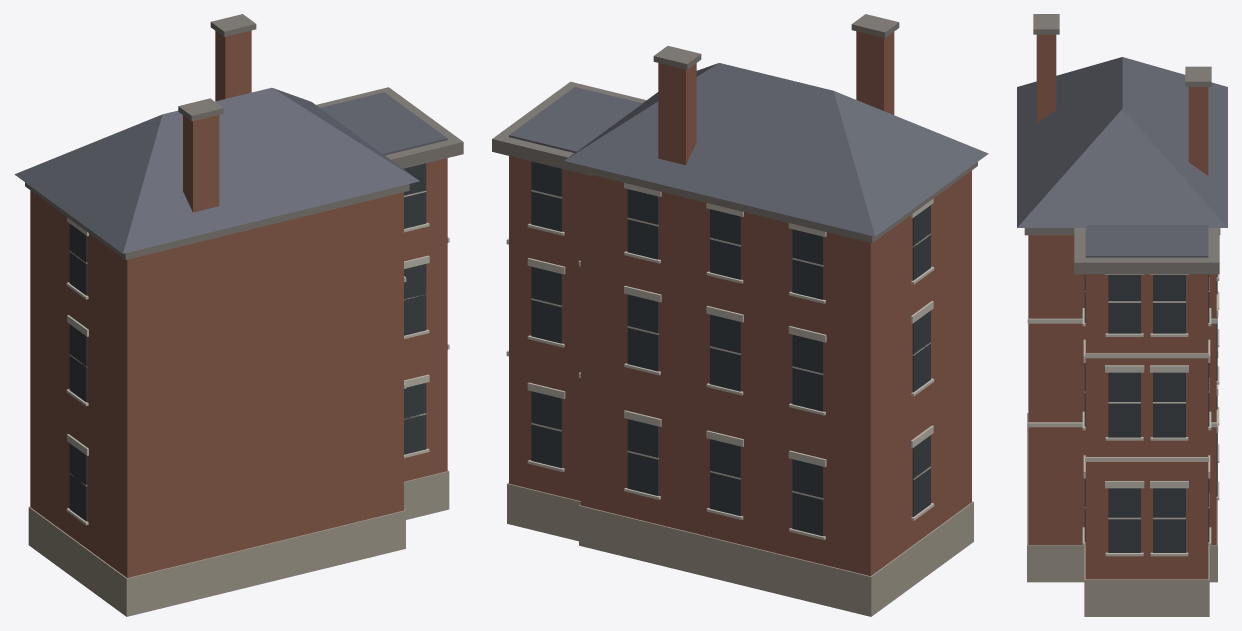
Rendered from house_2009_indiana__draft_1904.glb.
3 renders of one model, left to right at view 1: azimuth 30°, elevation 25°; view 2: azimuth 150°, elevation 25°; view 3: azimuth 270°, elevation 25°, orthographic. The views are drawn at different scales.
Visible parts, largest first — view 1: house_2009_indiana__draft_1904; view 2: house_2009_indiana__draft_1904; view 3: house_2009_indiana__draft_1904.
Boxes of the visible parts, x1,y1,x2,y2 form: house_2009_indiana__draft_1904: (14,14,463,616); house_2009_indiana__draft_1904: (492,14,988,616); house_2009_indiana__draft_1904: (1017,14,1227,616).
Size of the model in its own units: 12.7 by 15.8 by 6.45.
